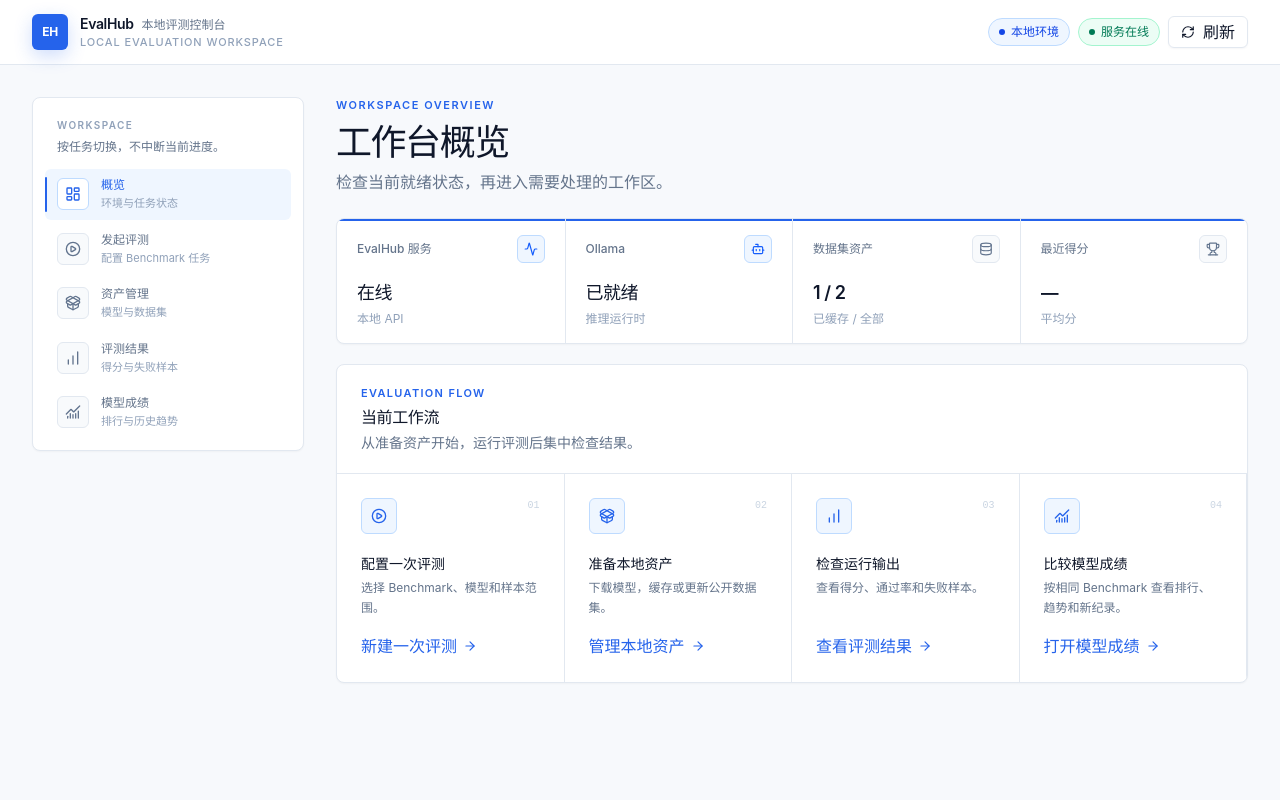
Test: EvalHub console › starts with a directed evaluation empty state
Click the button with aria-label "打开评测结果页面".
click(168, 358)  # box [45,332,291,383]
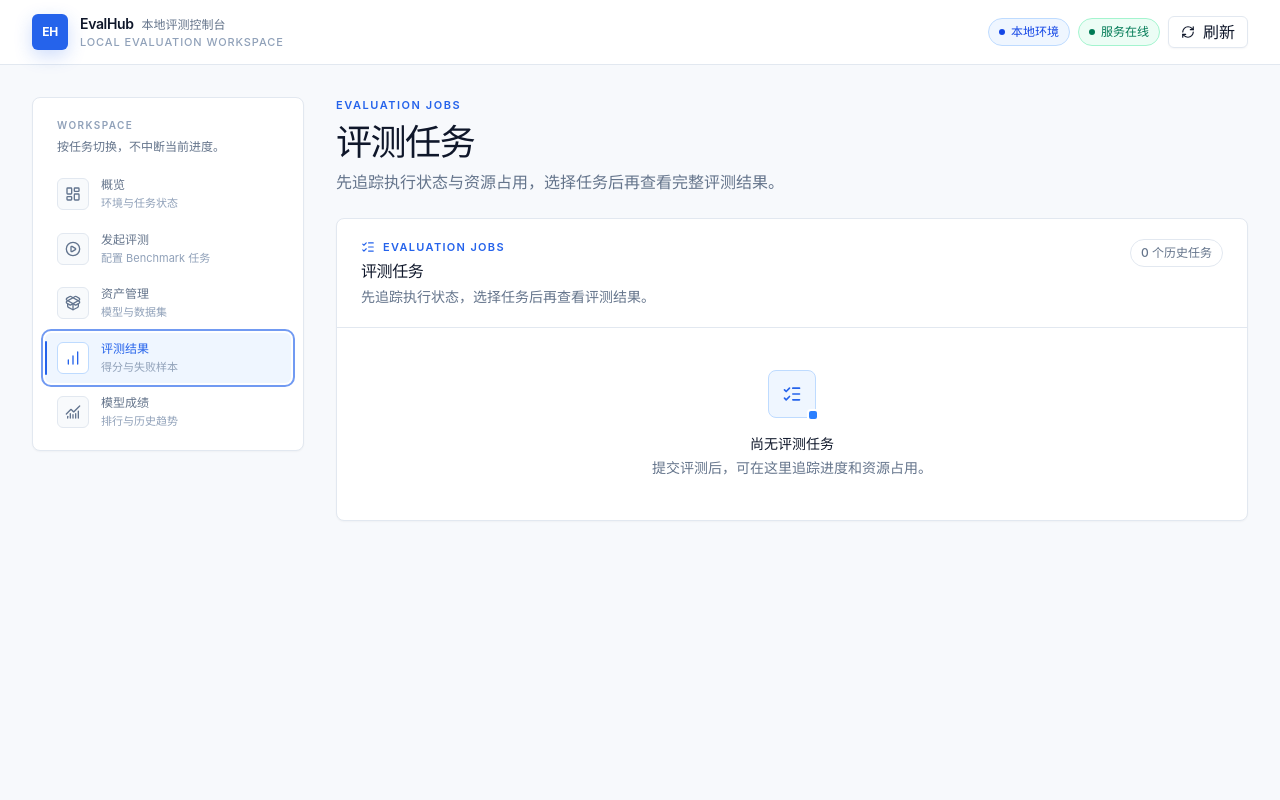
Expected: the text "尚无评测任务" is shown, [750,435,834,452]
Expected: the text "提交评测后，可在这里追踪进度和资源占用。" is shown, [652,458,932,478]
